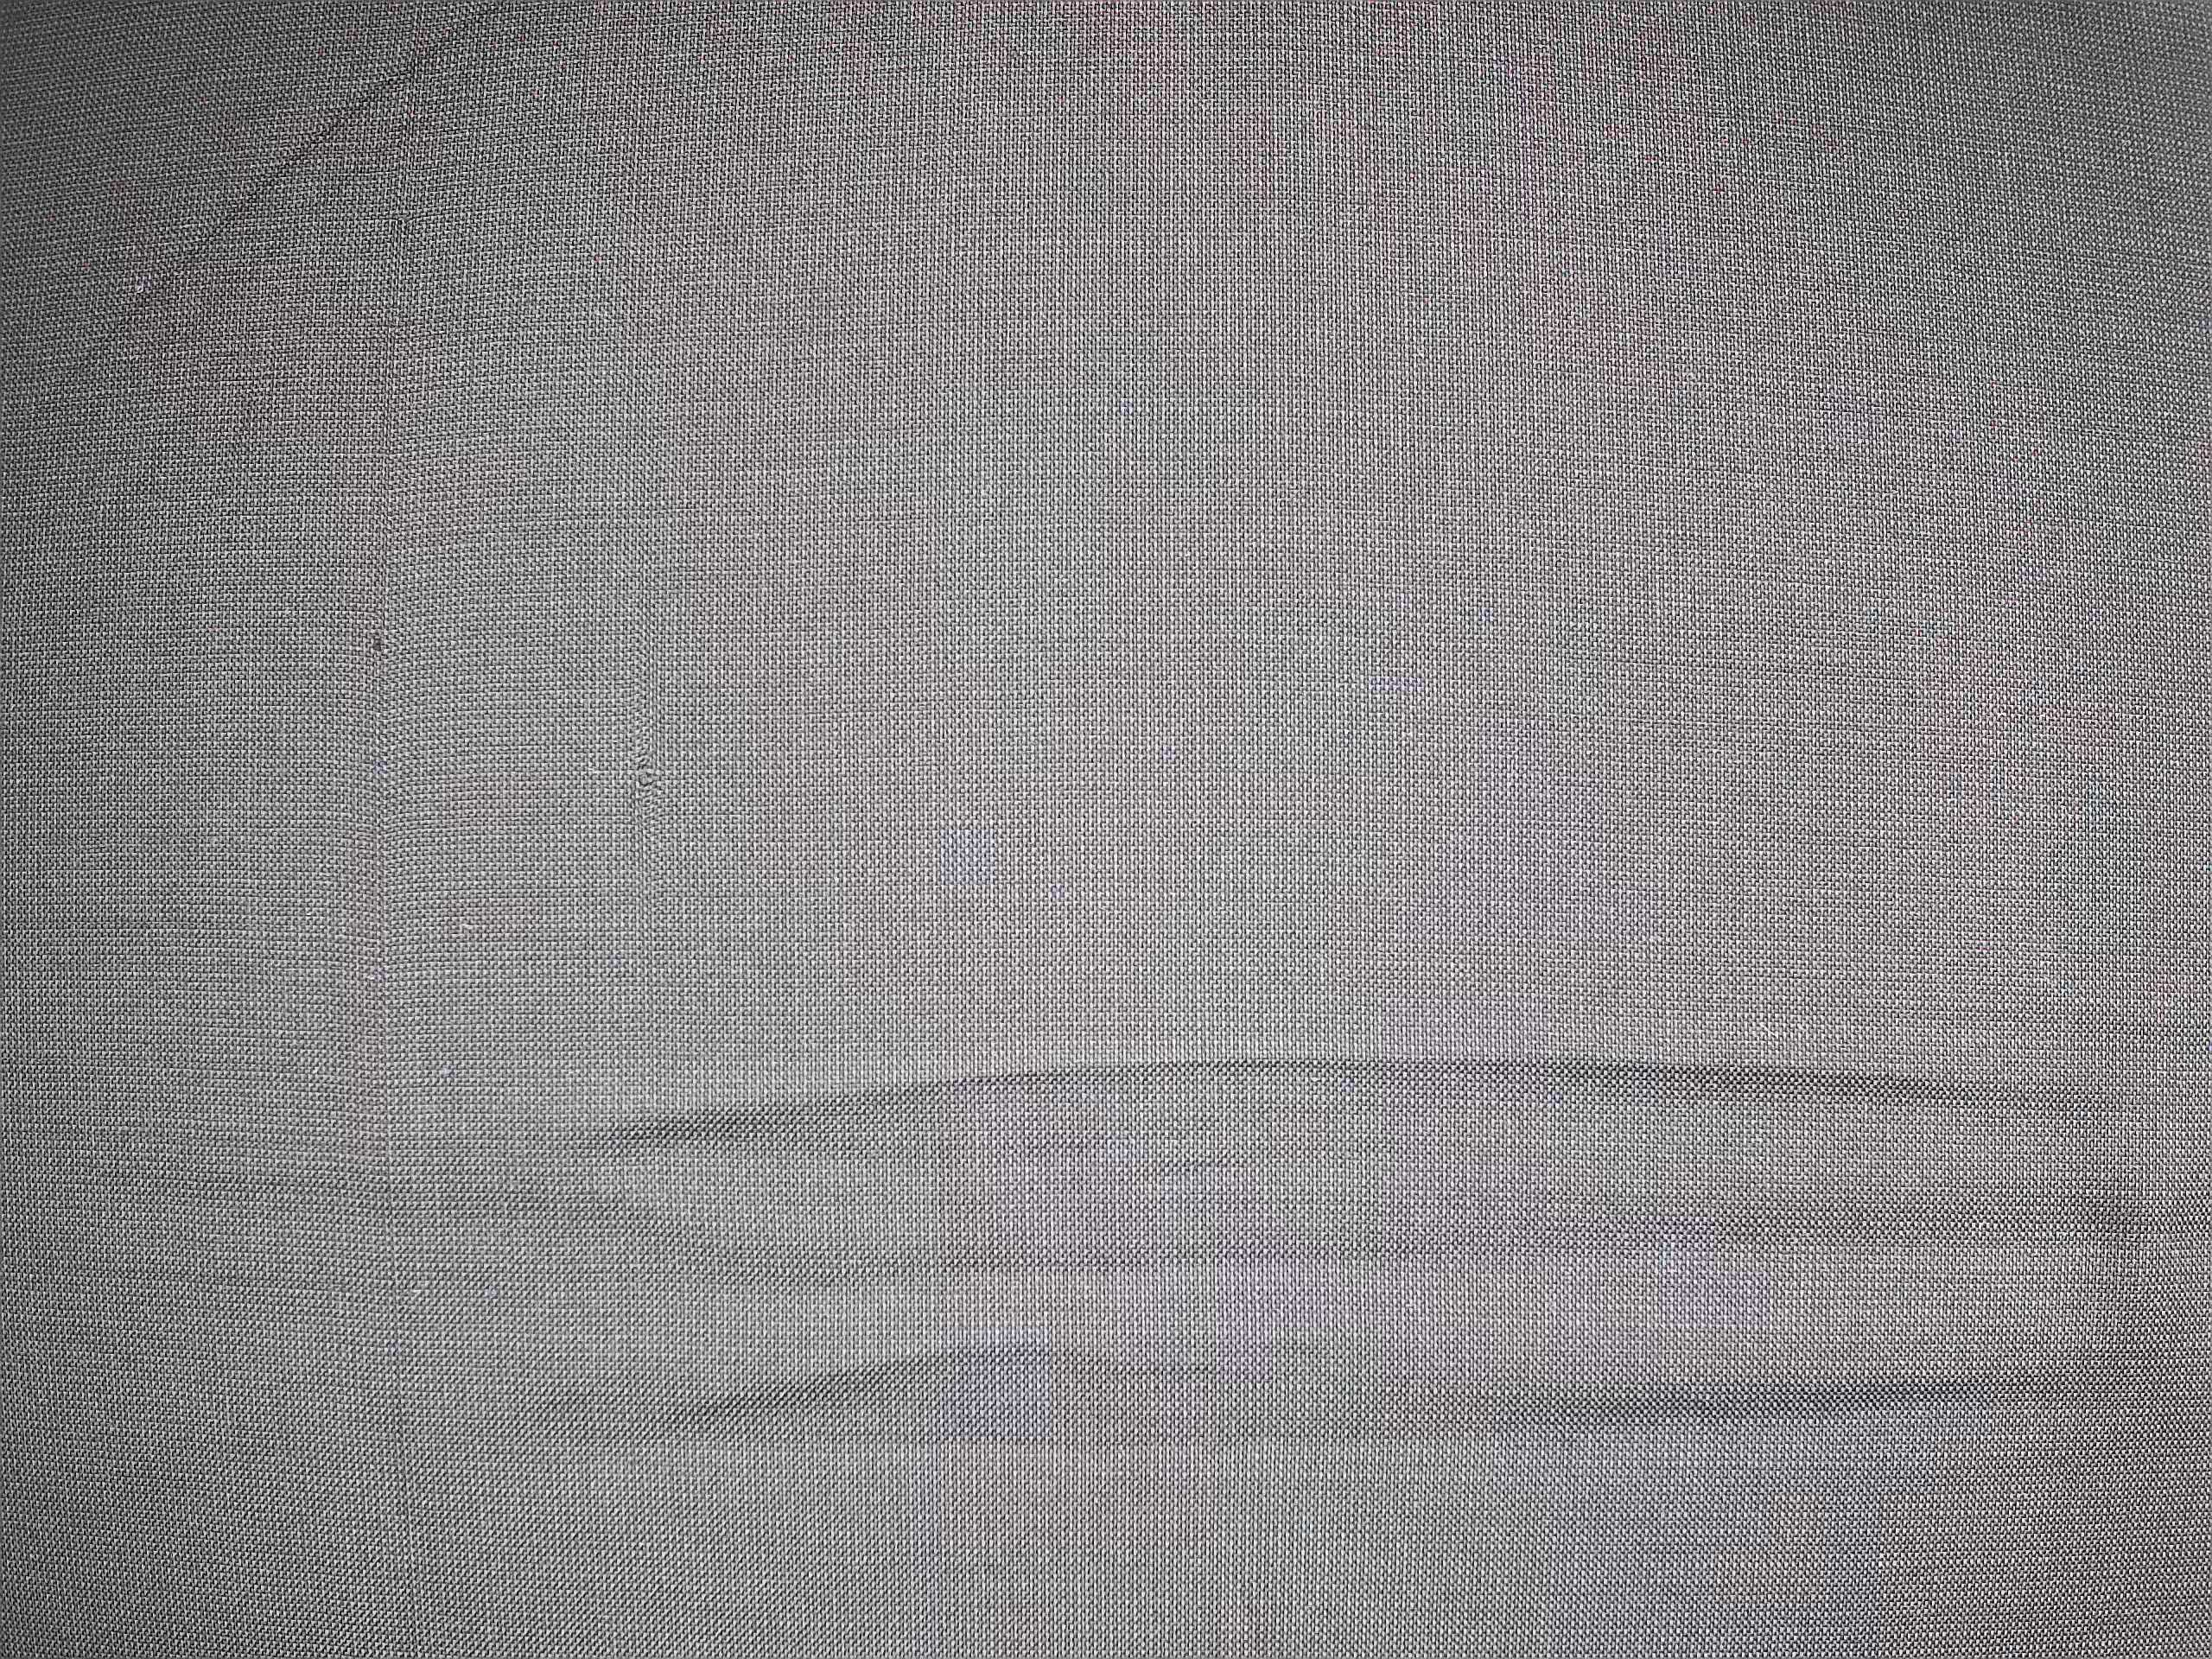hanging-warp: (355, 608, 413, 1521), (617, 730, 674, 824)
